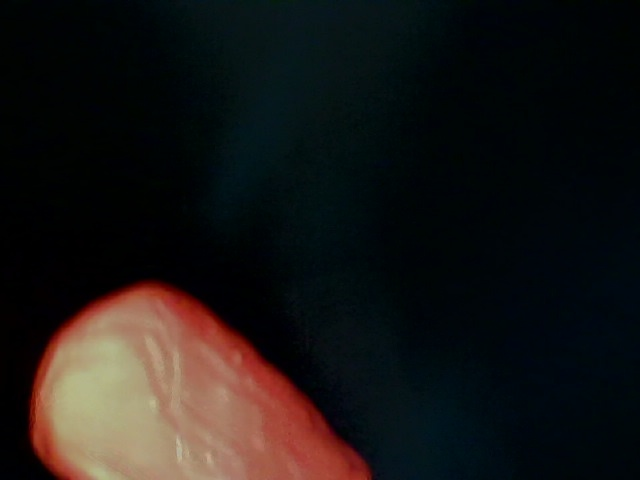YHLJ: (426, 271, 552, 340)
